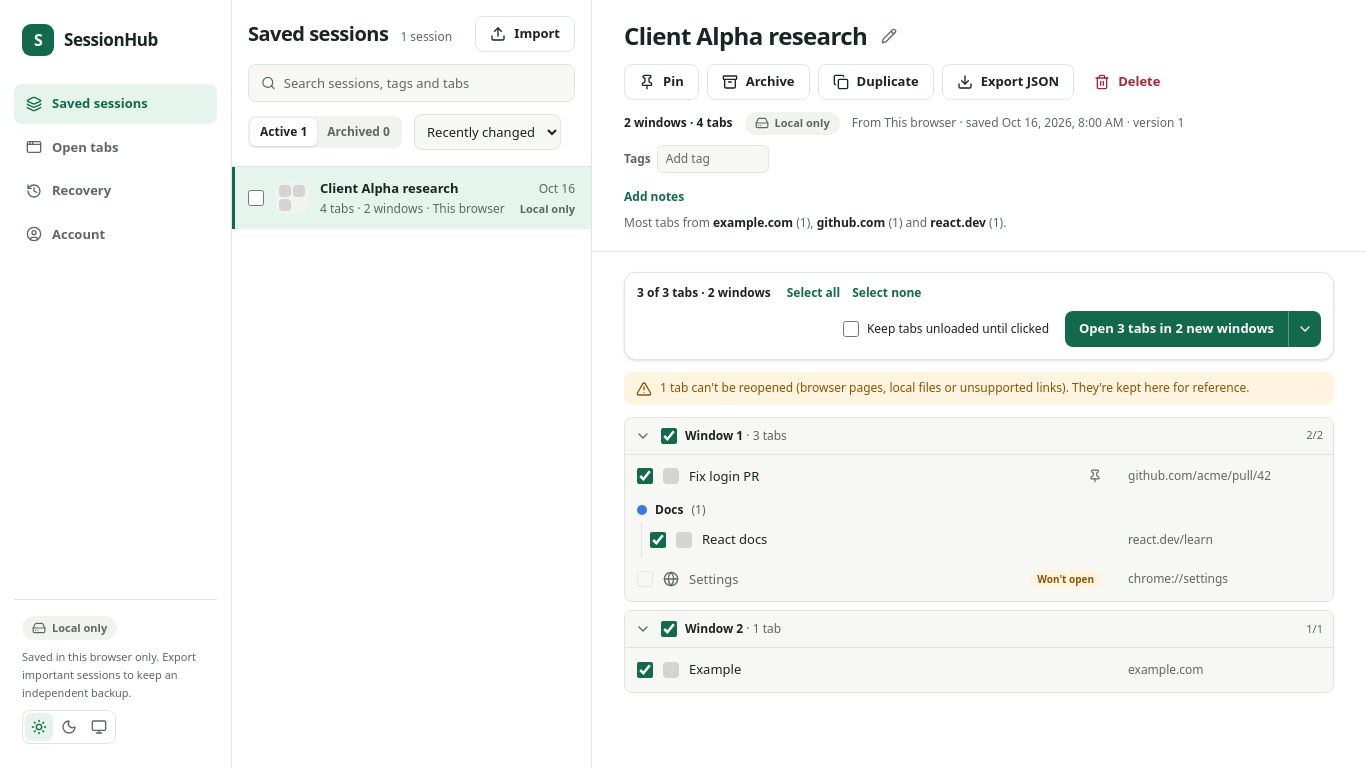
ManagerApp › ticks windows and tabs, can't tick tabs that won't reopen, and remembers where to open
Expected: the button "Open 3 tabs in 2 new windows" is shown, [1065,311,1288,347]
Expected: the text "3 of 3 tabs · 2 windows" is shown, [637,285,771,301]
What coordinates should you click on to do the following:
click the checkbox labelled "Window 2 · 1 tab"
I would click on:
 (669, 629)
Its box is [661,621,677,637].
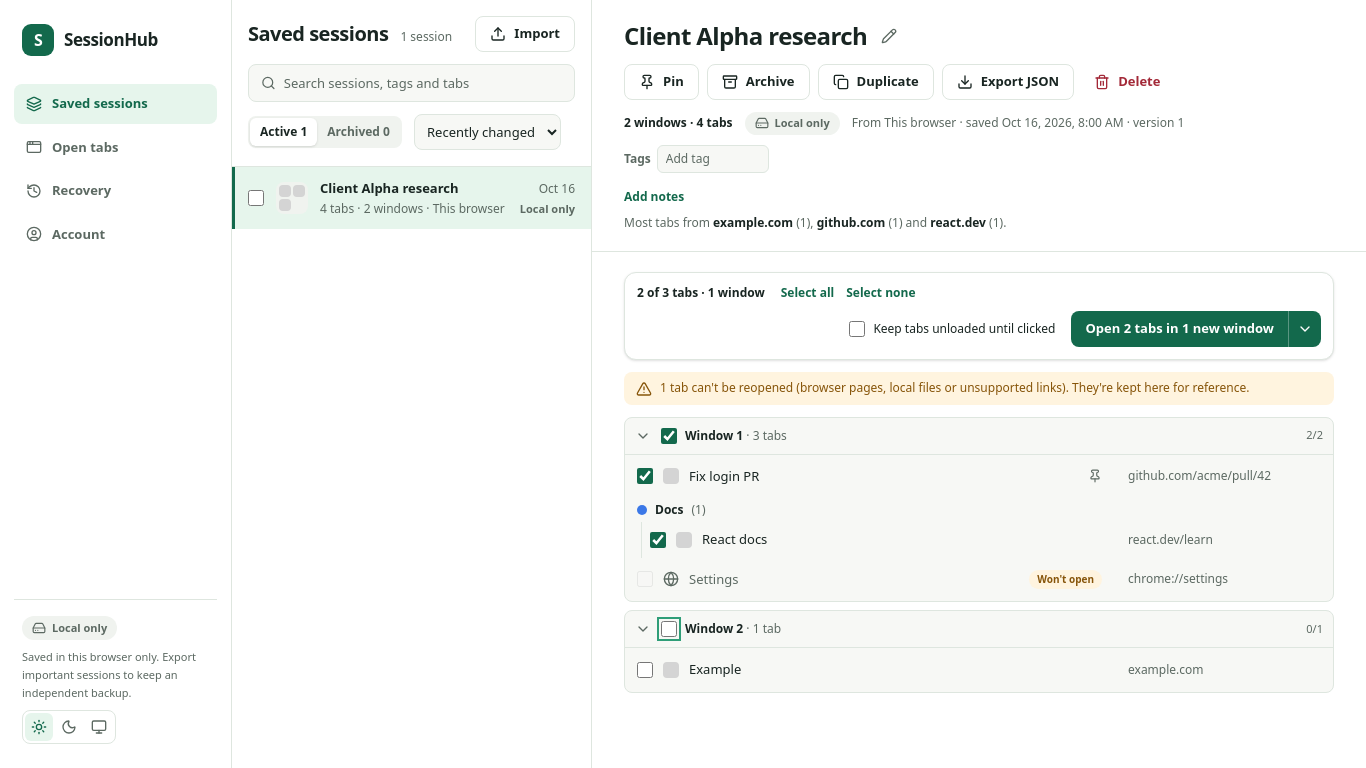
Expected: the button "Open 2 tabs in 1 new window" is shown, [1072,311,1288,347]
What coordinates should you click on to do the following:
click the checkbox named "React docs" next to "React docs"
I would click on:
 (658, 540)
Its box is [650,532,666,548].
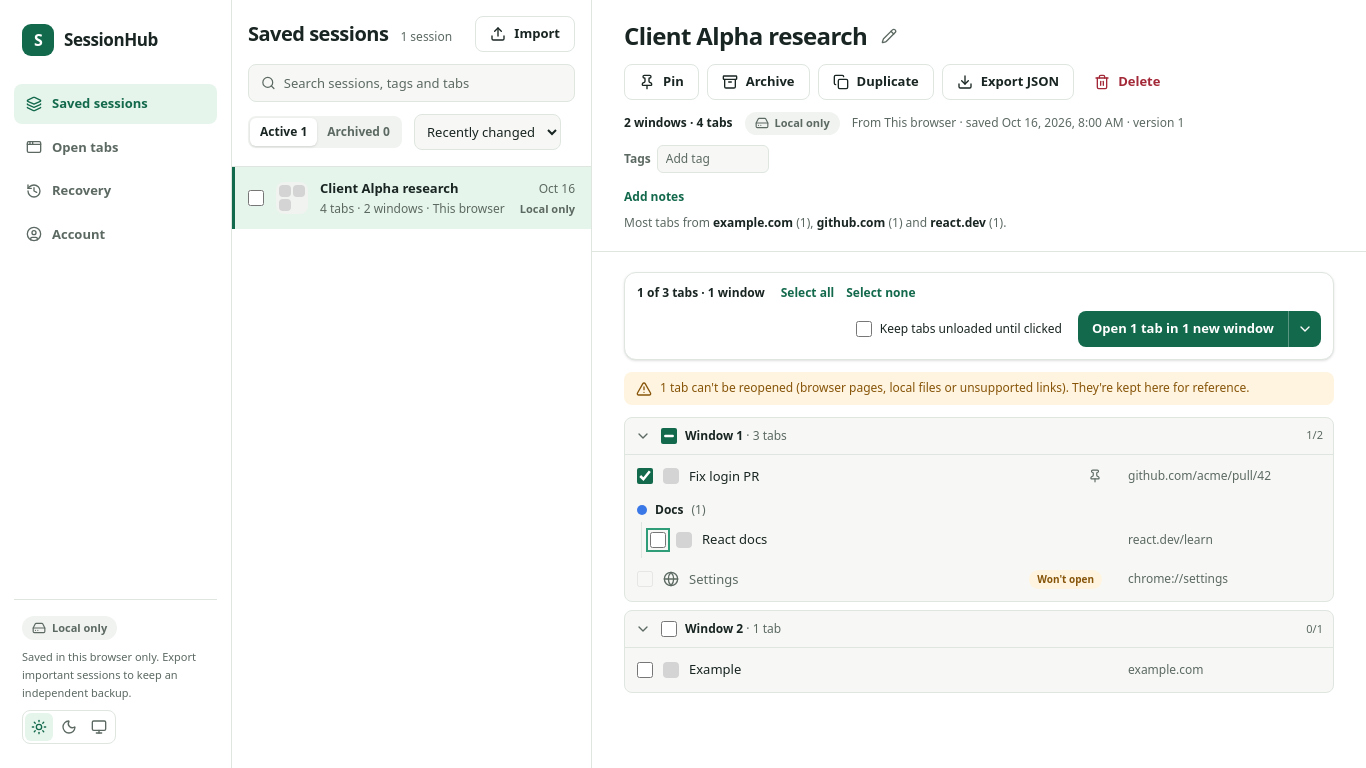
Expected: the button "Open 1 tab in 1 new window" is shown, [1078,311,1288,347]
What coordinates should you click on to do the following:
click the button named "Choose where to open"
I would click on:
 (1304, 329)
Its box is [1288,311,1321,347].
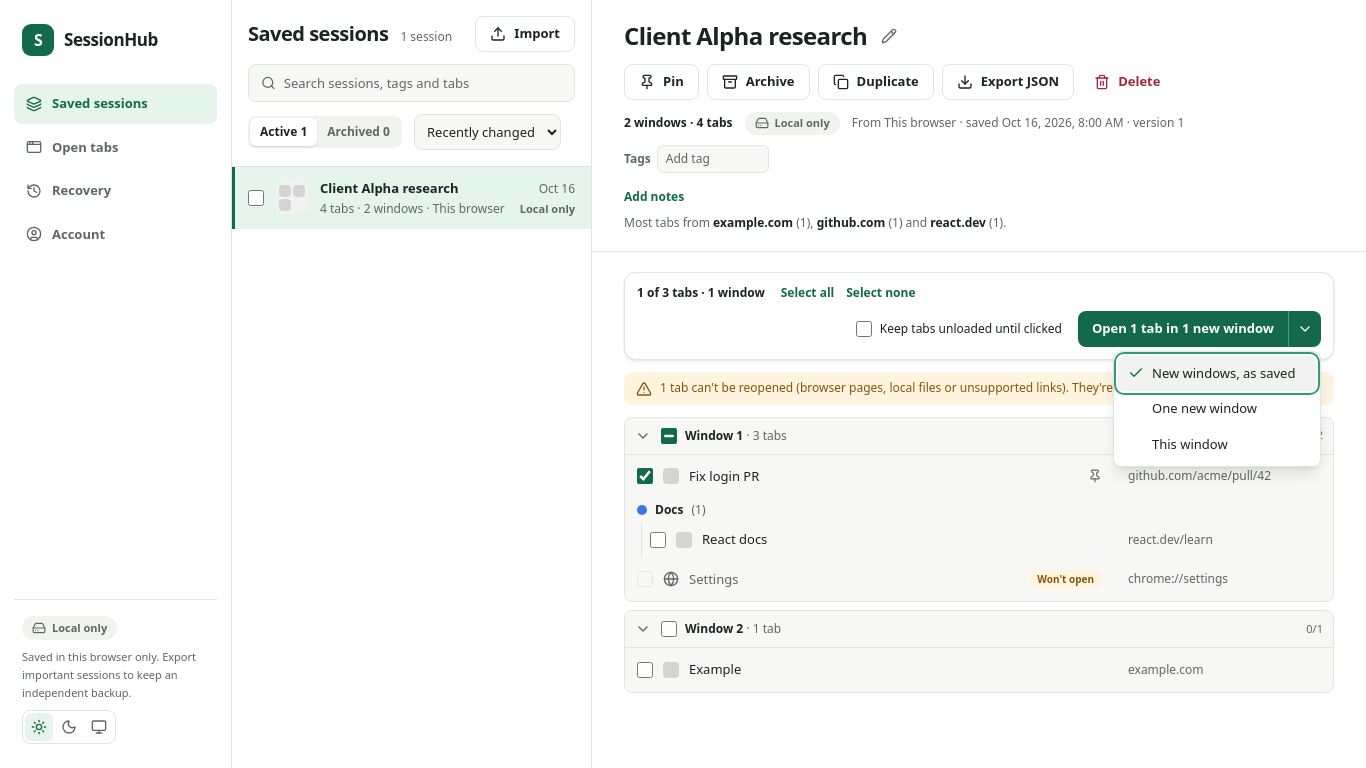
What coordinates should you click on to do the following:
click the menu item "This window"
I would click on:
 (1217, 444)
Its box is [1118,427,1316,462].
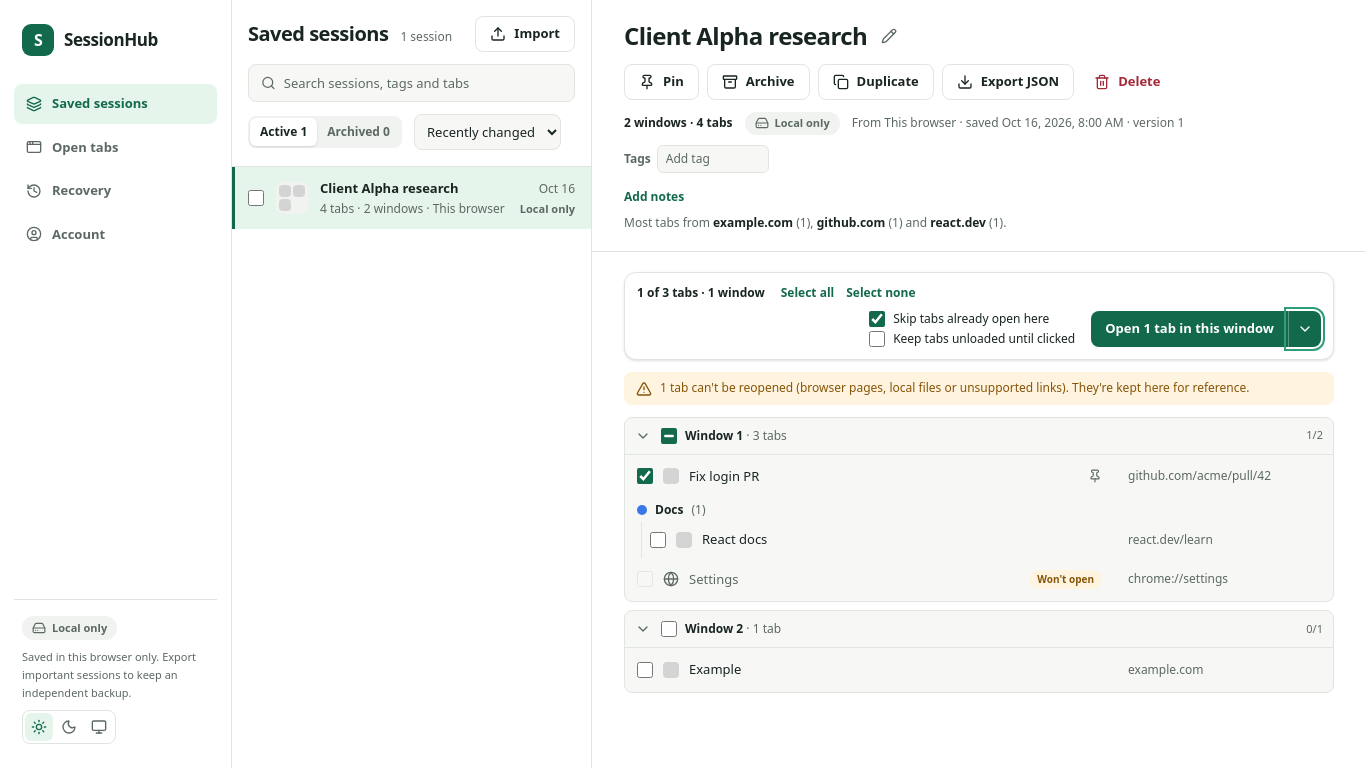
Expected: the menu is gone
Expected: the button "Open 1 tab in this window" is shown, [1091,311,1288,347]
Expected: the checkbox labelled "Skip tabs already open here" is checked, [869,311,885,327]
What coordinates should you click on to do the following:
click the button "Select none"
I would click on:
 (881, 293)
Its box is [846,285,916,301].
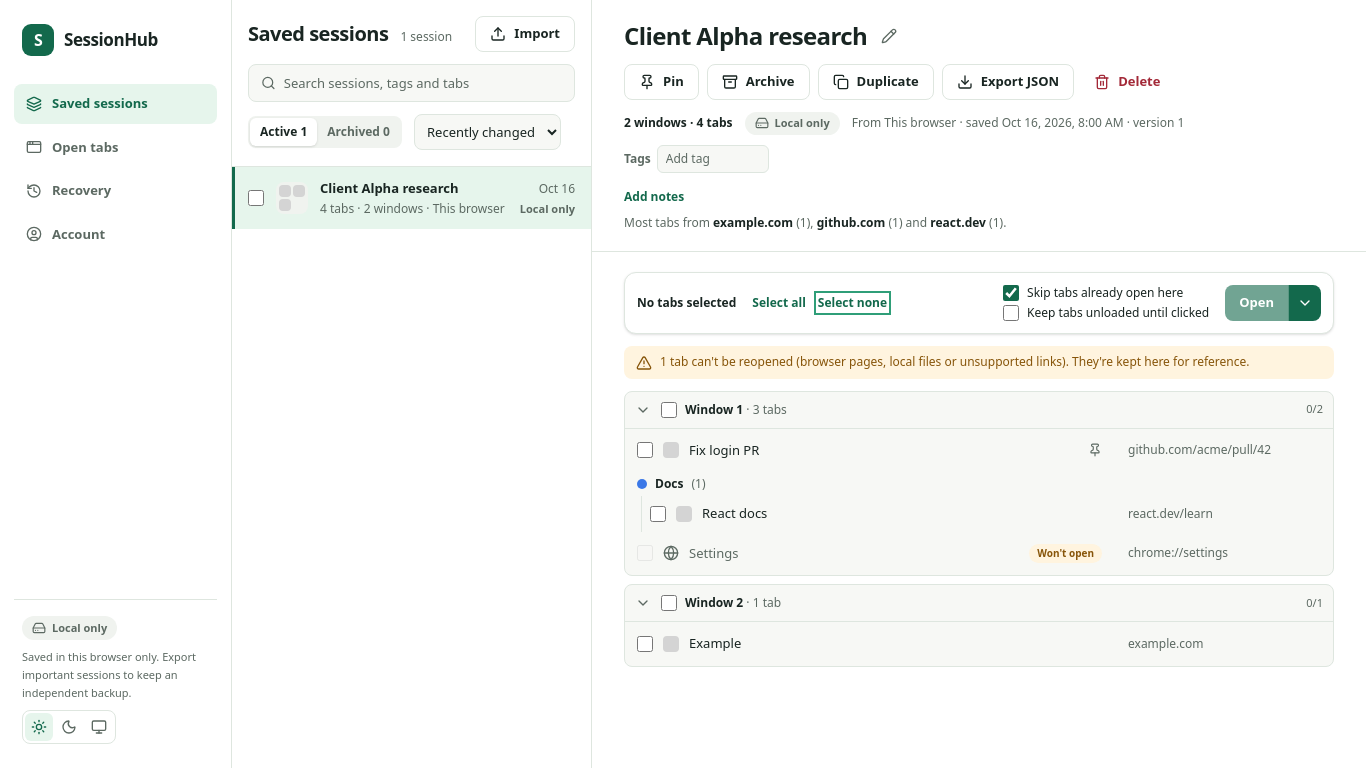
Expected: the text "No tabs selected" is shown, [637,295,736,311]
Expected: the button "Open" is disabled, [1225,285,1288,321]
